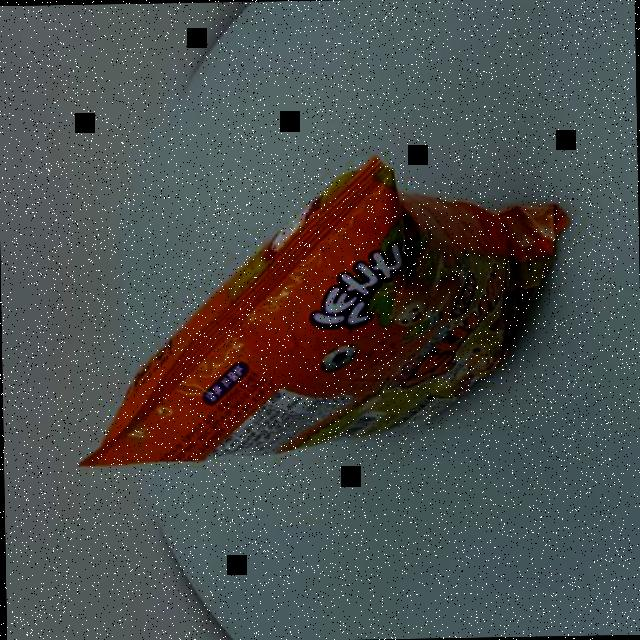snack_bag: (61, 146, 577, 490)
